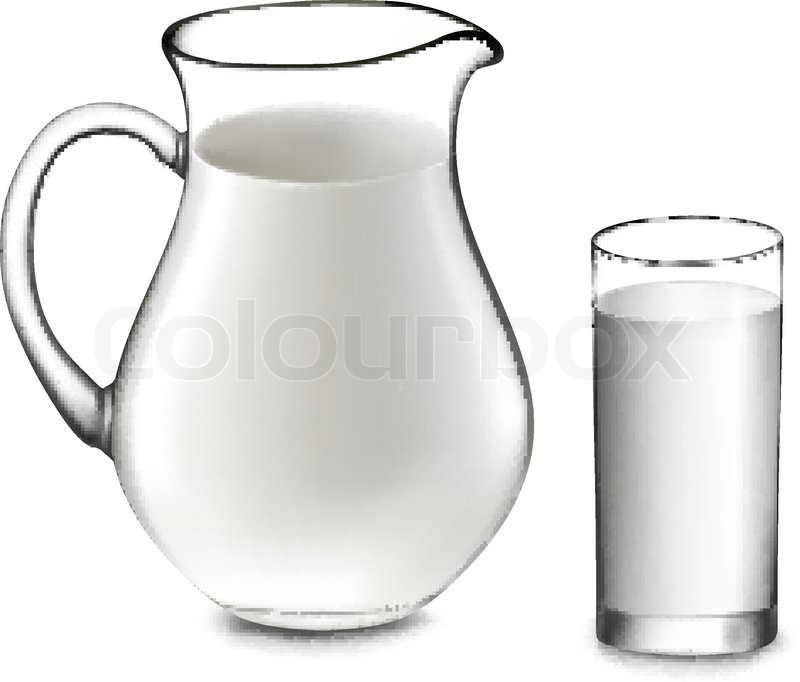glass of water: (108, 134, 525, 637), (591, 267, 783, 659)
